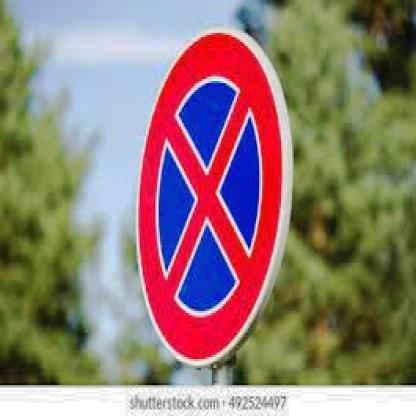No stopping: (139, 31, 295, 348)
